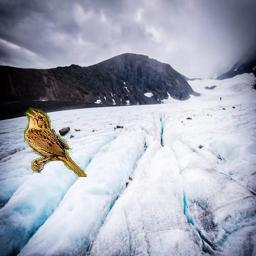Sparrow: (25, 107, 88, 177)
